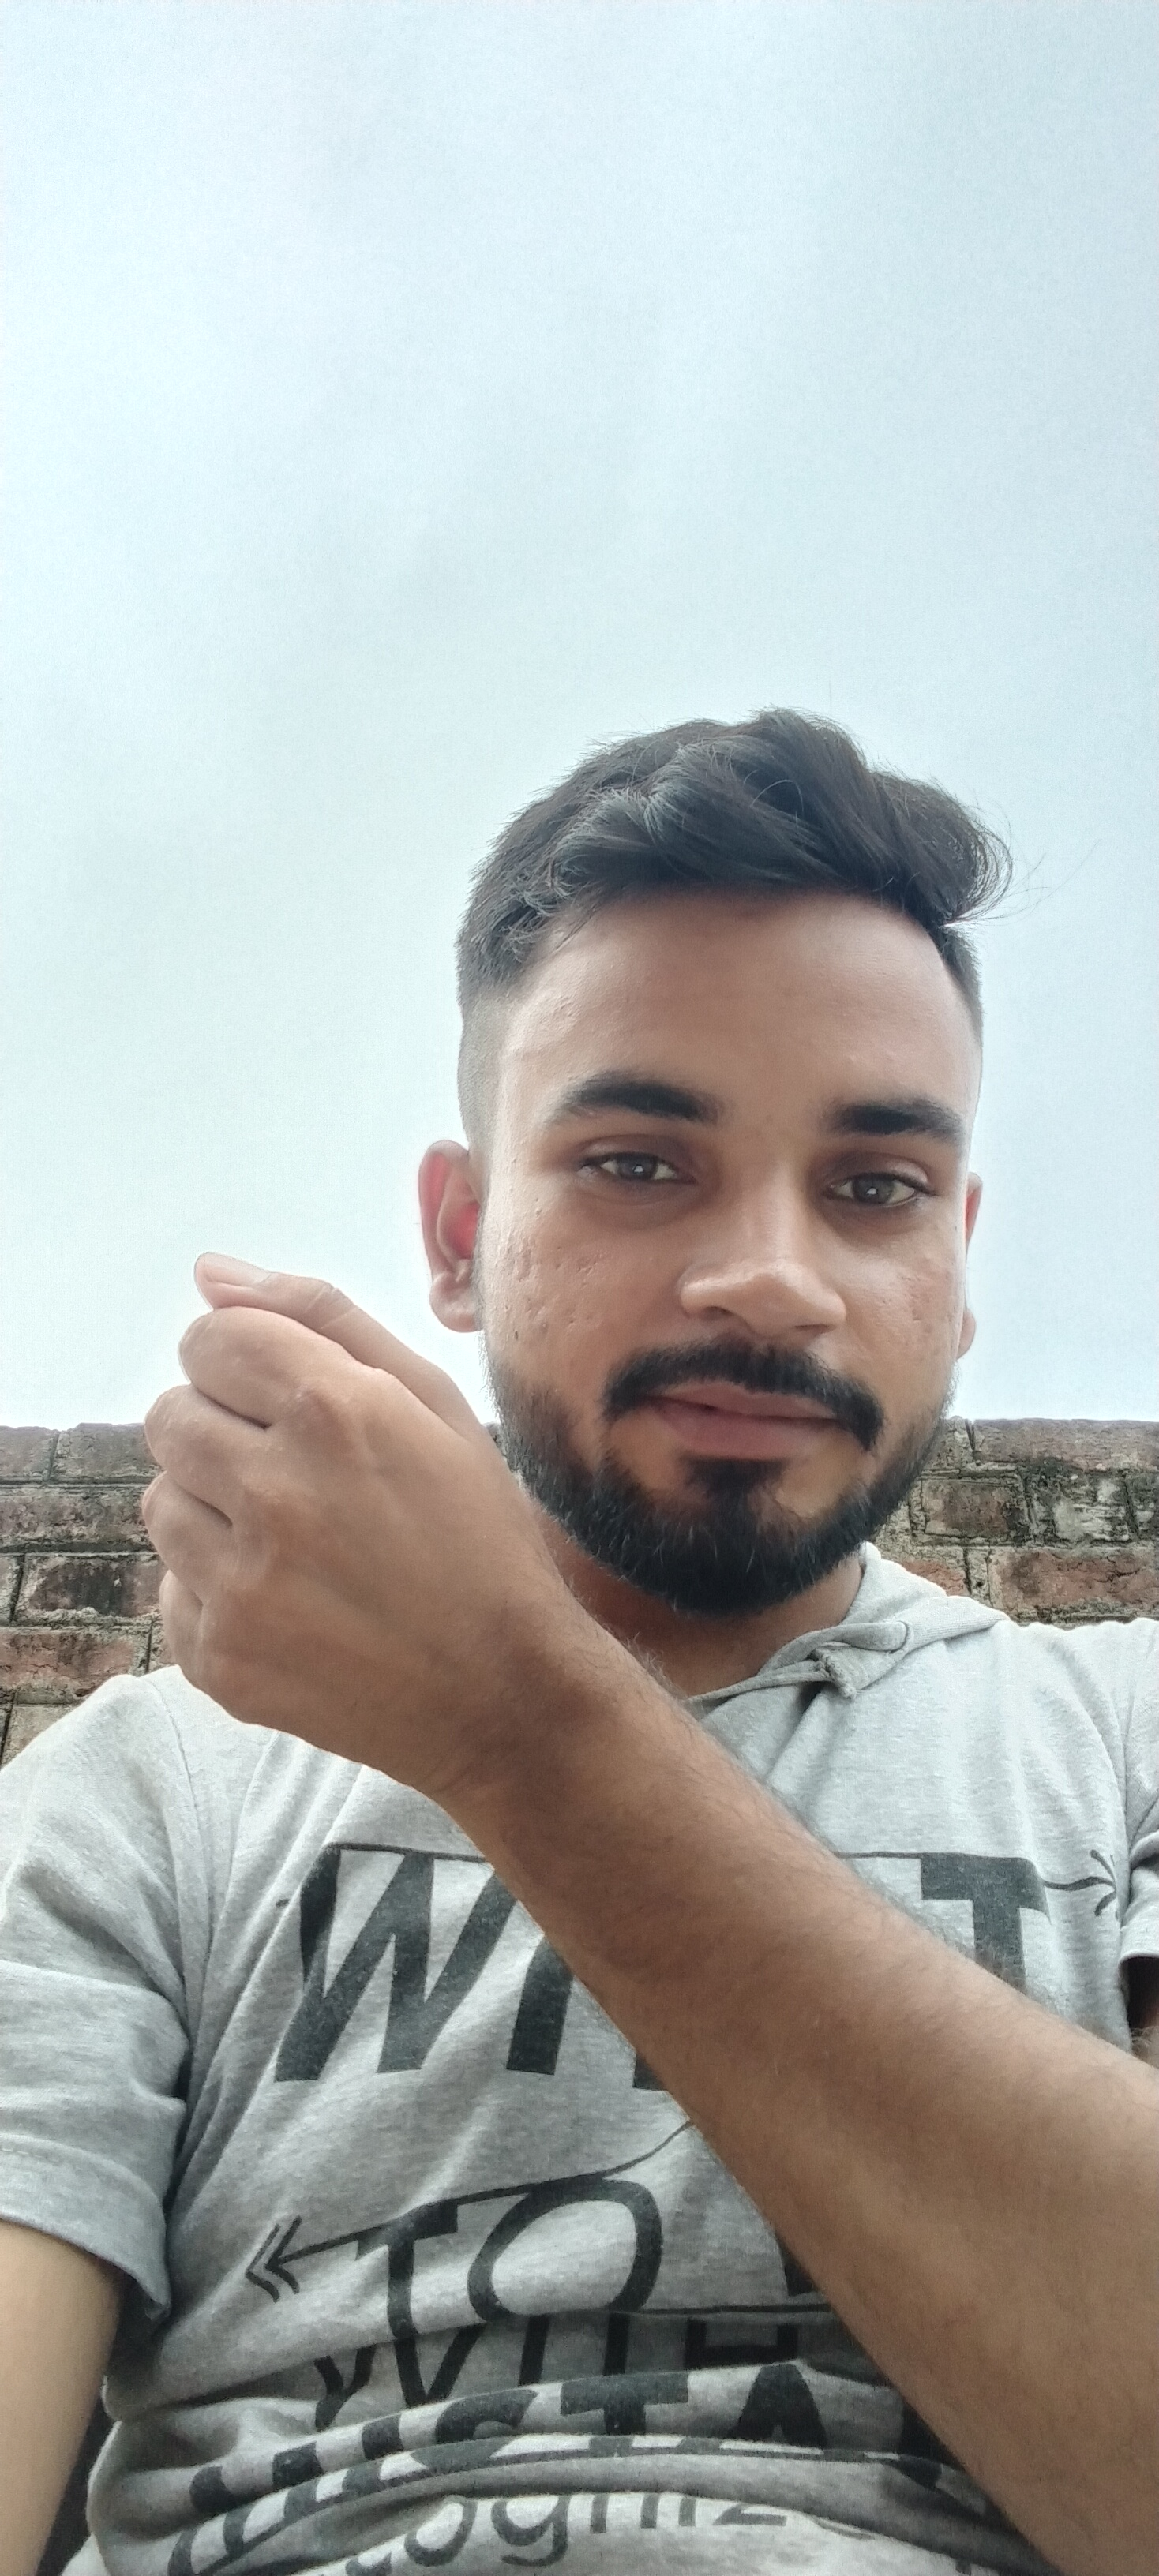Sorry: (132, 1230, 523, 1791)
